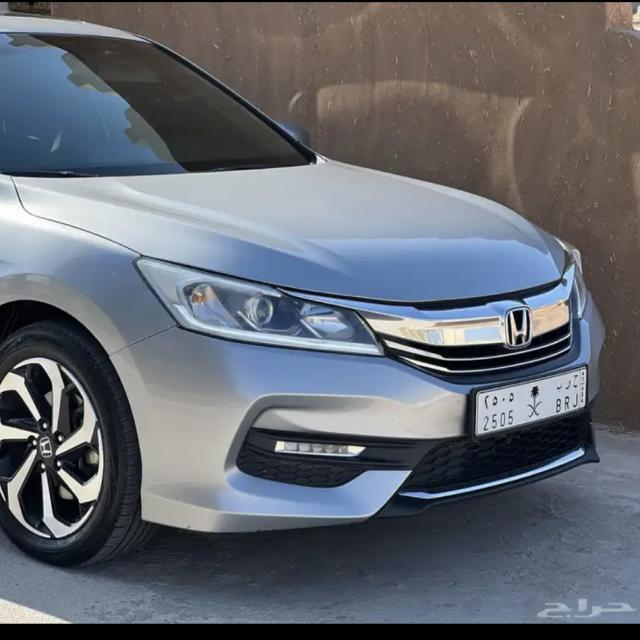license_plate: (472, 363, 596, 436)
